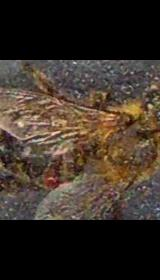varroa_mite: (41, 166, 60, 200)
